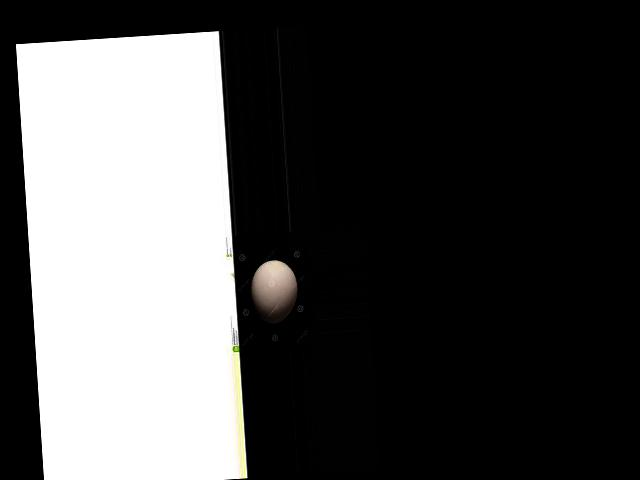egg: (248, 258, 299, 324)
